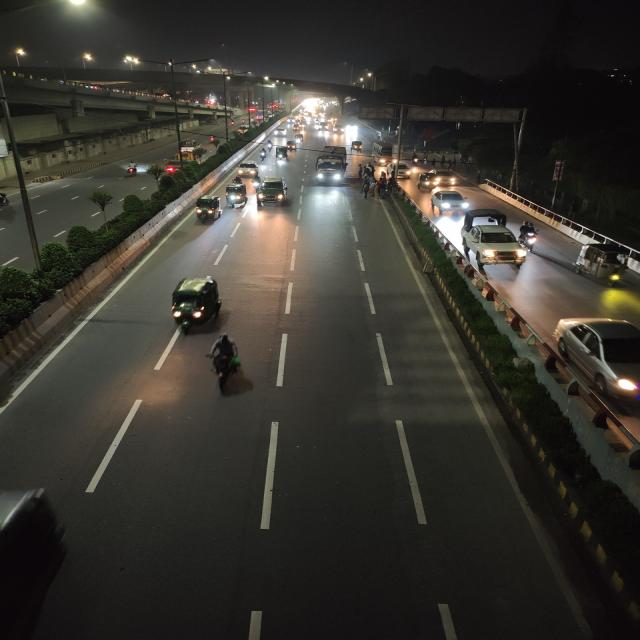bus: (312, 152, 350, 187)
car: (549, 312, 640, 412), (458, 213, 520, 270), (254, 176, 289, 207), (428, 190, 472, 214), (233, 160, 262, 178), (388, 162, 414, 180), (438, 168, 460, 188), (177, 139, 200, 154), (272, 127, 290, 139)
cng: (159, 272, 231, 339), (572, 241, 633, 287), (192, 194, 224, 226), (223, 182, 250, 208), (418, 170, 438, 190), (349, 139, 364, 154), (275, 146, 289, 161), (286, 138, 299, 152)
motorcycle: (201, 331, 258, 395), (517, 220, 544, 252), (0, 183, 12, 217), (122, 160, 141, 178), (258, 146, 270, 161)
pedestrian: (363, 178, 377, 200), (376, 174, 388, 194)
